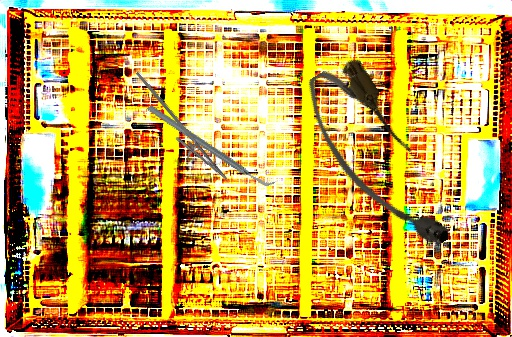Cannula: (293, 52, 463, 268)
Chopper: (146, 71, 276, 220)
Needle Holder: (116, 71, 240, 188)
